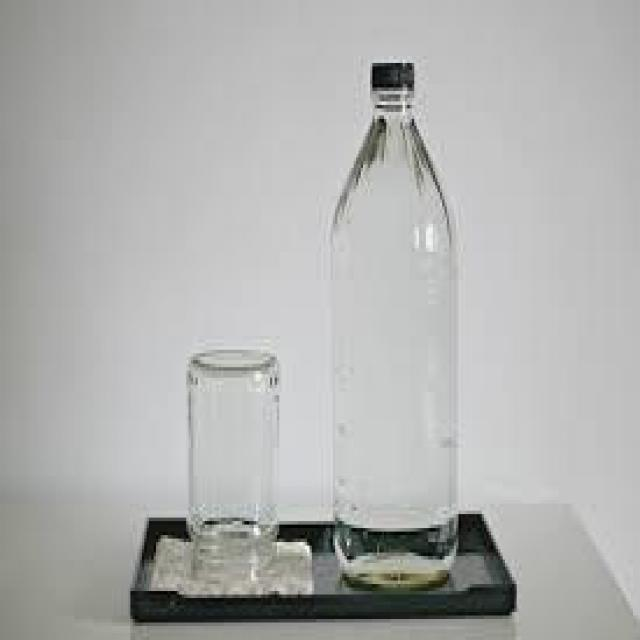non-organic waste: (326, 56, 458, 587), (185, 348, 283, 572)
